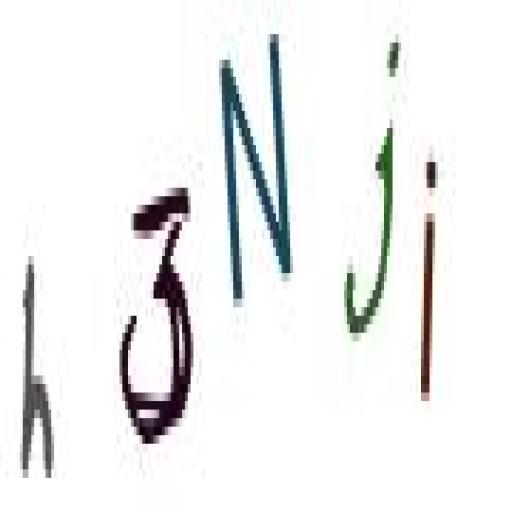3: (115, 169, 199, 465)
N: (220, 23, 300, 332)
h: (14, 240, 60, 501)
i: (415, 142, 445, 419)
j: (340, 28, 399, 363)
